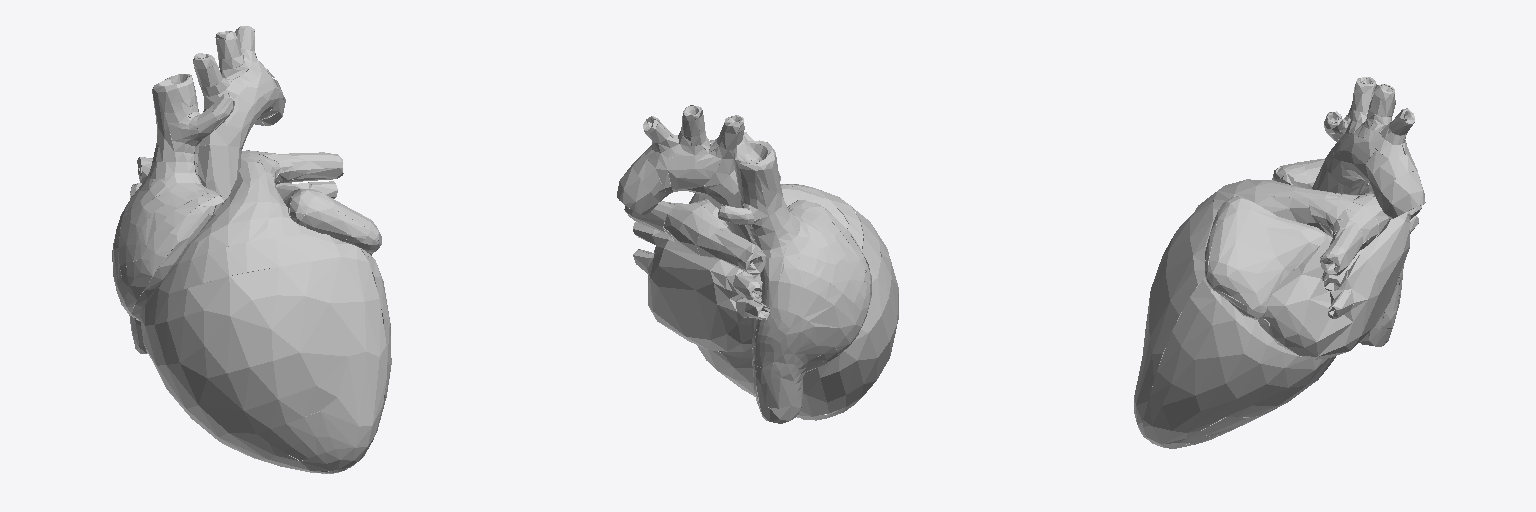
File: heart.obj
3 views of the same model, side by side, from view 1: azimuth 30°, elevation 25°; view 2: azimuth 150°, elevation 25°; view 3: azimuth 270°, elevation 25° (orthographic).
Parts seen in each view (by area): view 1: Cylinder.003_heart4_0_Cylinder.003_heart4_0_heart1, Cylinder.003_heart4_0_Cylinder.003_heart4_0_heart2, Cylinder.003_heart4_0_Cylinder.003_heart4_0_heart3, Cylinder.003_heart4_0_Cylinder.003_heart4_0_heart4, Cylinder.003_heart4_0_Cylinder.003_heart4_0_heart5; view 2: Cylinder.003_heart4_0_Cylinder.003_heart4_0_heart2, Cylinder.003_heart4_0_Cylinder.003_heart4_0_heart1, Cylinder.003_heart4_0_Cylinder.003_heart4_0_heart5, Cylinder.003_heart4_0_Cylinder.003_heart4_0_heart3; view 3: Cylinder.003_heart4_0_Cylinder.003_heart4_0_heart1, Cylinder.003_heart4_0_Cylinder.003_heart4_0_heart5, Cylinder.003_heart4_0_Cylinder.003_heart4_0_heart4, Cylinder.003_heart4_0_Cylinder.003_heart4_0_heart3, Cylinder.003_heart4_0_Cylinder.003_heart4_0_heart2.
Part boxes in pixels (bbox=[...]): Cylinder.003_heart4_0_Cylinder.003_heart4_0_heart1: bbox=[137, 150, 391, 473]; Cylinder.003_heart4_0_Cylinder.003_heart4_0_heart2: bbox=[112, 74, 234, 353]; Cylinder.003_heart4_0_Cylinder.003_heart4_0_heart3: bbox=[193, 26, 285, 275]; Cylinder.003_heart4_0_Cylinder.003_heart4_0_heart4: bbox=[276, 185, 381, 255]; Cylinder.003_heart4_0_Cylinder.003_heart4_0_heart5: bbox=[130, 181, 352, 284]; Cylinder.003_heart4_0_Cylinder.003_heart4_0_heart2: bbox=[718, 132, 871, 423]; Cylinder.003_heart4_0_Cylinder.003_heart4_0_heart1: bbox=[624, 184, 898, 420]; Cylinder.003_heart4_0_Cylinder.003_heart4_0_heart5: bbox=[633, 222, 769, 351]; Cylinder.003_heart4_0_Cylinder.003_heart4_0_heart3: bbox=[617, 105, 778, 249]; Cylinder.003_heart4_0_Cylinder.003_heart4_0_heart1: bbox=[1134, 176, 1419, 448]; Cylinder.003_heart4_0_Cylinder.003_heart4_0_heart5: bbox=[1258, 205, 1421, 359]; Cylinder.003_heart4_0_Cylinder.003_heart4_0_heart4: bbox=[1205, 196, 1327, 319]; Cylinder.003_heart4_0_Cylinder.003_heart4_0_heart3: bbox=[1309, 77, 1425, 225]; Cylinder.003_heart4_0_Cylinder.003_heart4_0_heart2: bbox=[1272, 100, 1403, 346].
Size of the model in its own units: 0.2805 by 0.428 by 0.311.